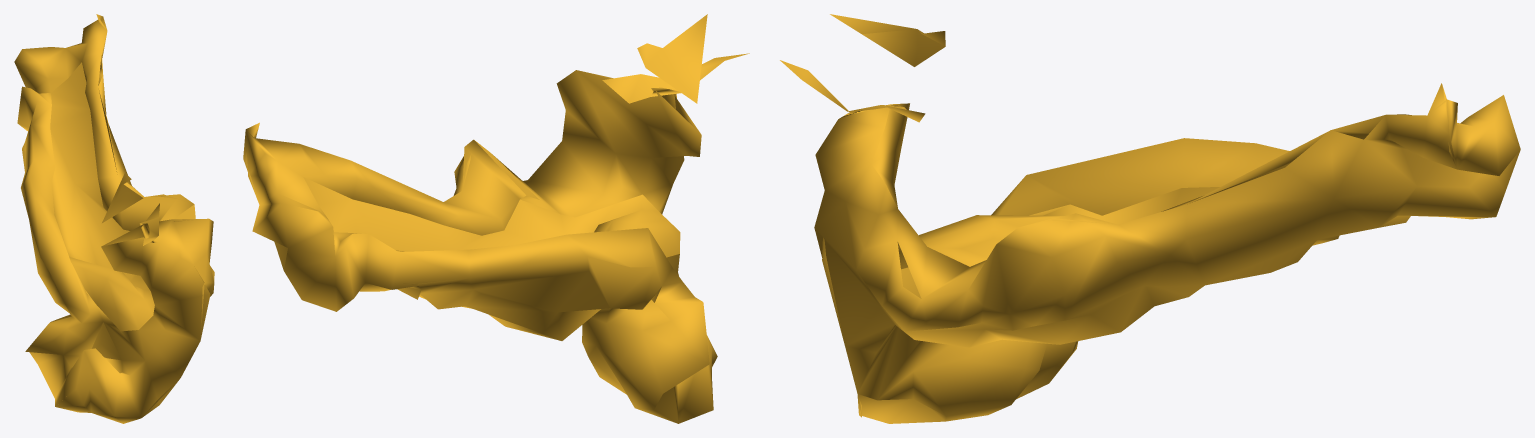
Rendered from nervoso-medial-occipitotemporal-gyrus-parahippocampal-r.glb.
The picture shows the model from 3 angles, left to right: view 1: azimuth 30°, elevation 25°; view 2: azimuth 150°, elevation 25°; view 3: azimuth 270°, elevation 25°; orthographic projection. The views are drawn at different scales.
Visible parts, largest first — view 1: Medial occipitotemporal gyrus (Parahippocampal*).r; view 2: Medial occipitotemporal gyrus (Parahippocampal*).r; view 3: Medial occipitotemporal gyrus (Parahippocampal*).r.
Part boxes in pixels (x1=…): Medial occipitotemporal gyrus (Parahippocampal*).r: x1=14, y1=14, x2=214, y2=423; Medial occipitotemporal gyrus (Parahippocampal*).r: x1=243, y1=14, x2=749, y2=423; Medial occipitotemporal gyrus (Parahippocampal*).r: x1=780, y1=14, x2=1520, y2=423.
Bounding box in the file's own units: 0.0315 × 0.0397 × 0.0588.
